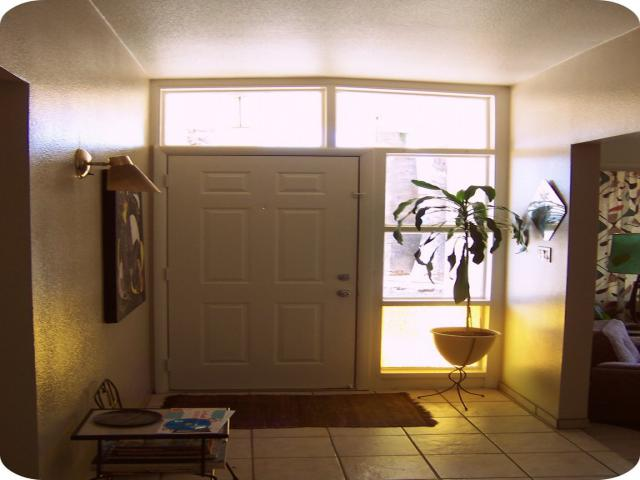Door-handle: (334, 290, 350, 298)
